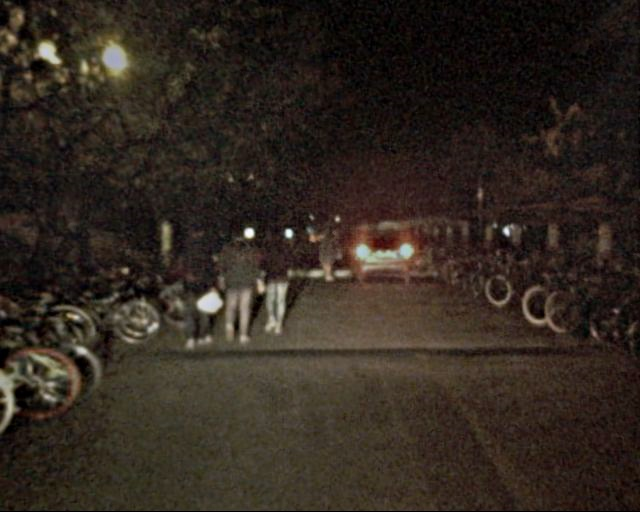person: (177, 209, 221, 345), (257, 218, 295, 336), (223, 230, 259, 344), (316, 225, 342, 281)
